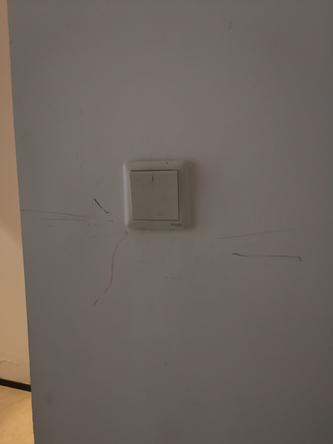switch: (127, 167, 183, 223)
